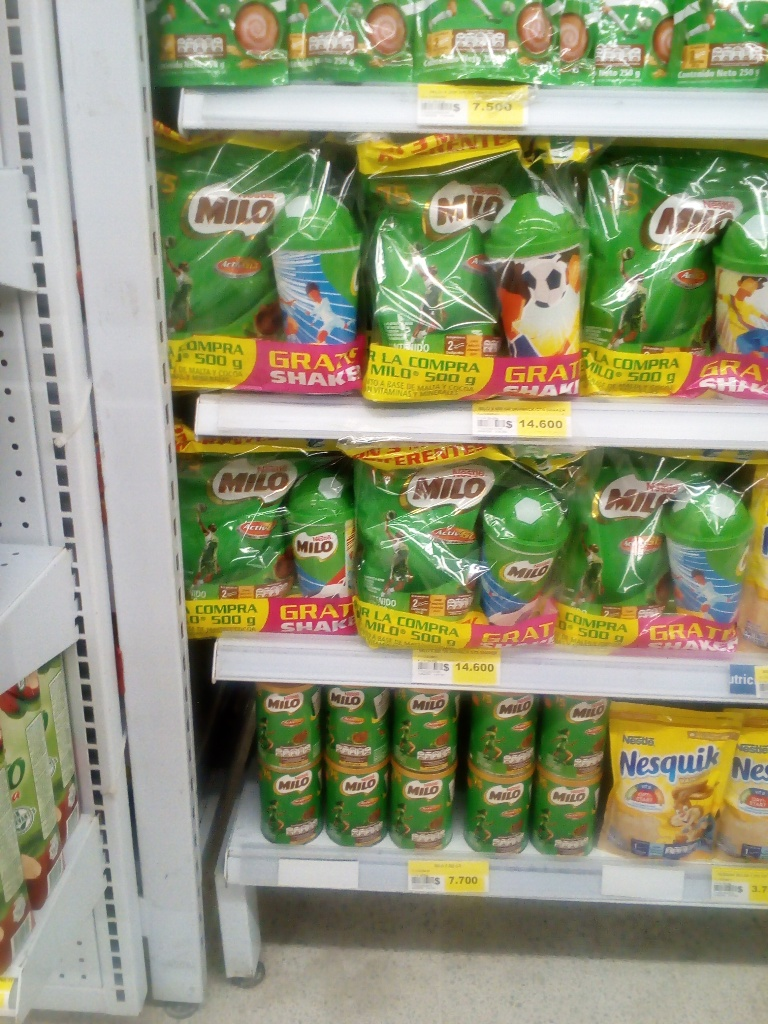COL0170203LAT20000: (252, 663, 318, 766)
COL0170303DYP20000: (602, 708, 727, 855)
